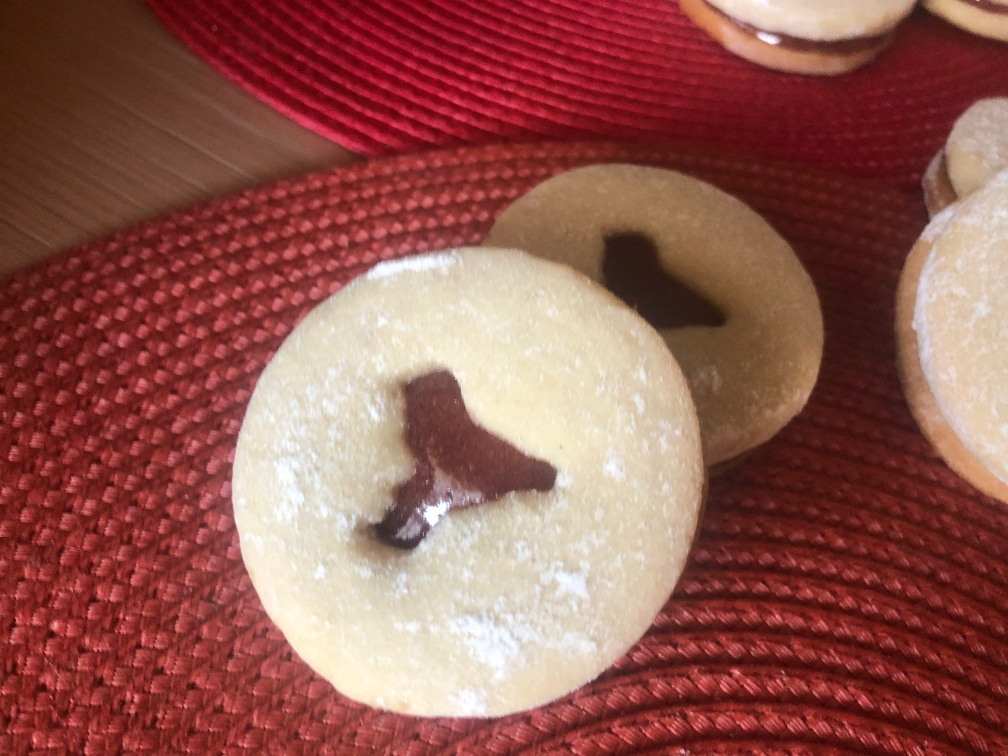christmas shortbread with jam: (233, 244, 704, 721), (487, 161, 824, 471), (683, 1, 918, 75)
